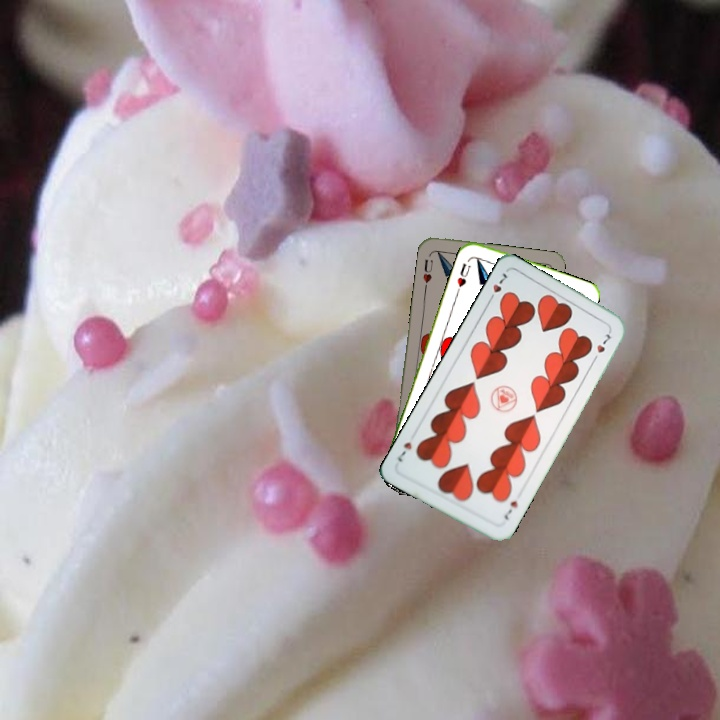H7: (484, 269, 511, 305), (499, 496, 520, 522)
HU: (453, 259, 473, 290), (419, 255, 436, 291)
